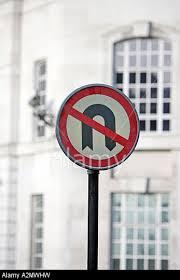no_u_turn: (55, 83, 138, 168)
